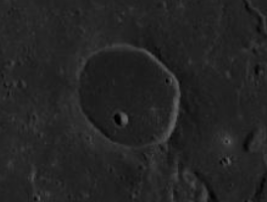crater: (52, 23, 201, 174), (105, 101, 142, 133)
